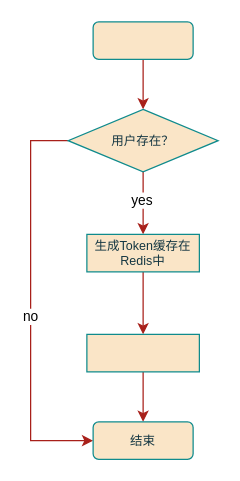
The diagram is 240 pixels wide and 481 high, and some of its shapes have lost their labels. Each missing label, with the box of its shape:
向响应头中写入Cookie: (86, 333, 199, 372)
开始: (92, 21, 193, 59)
